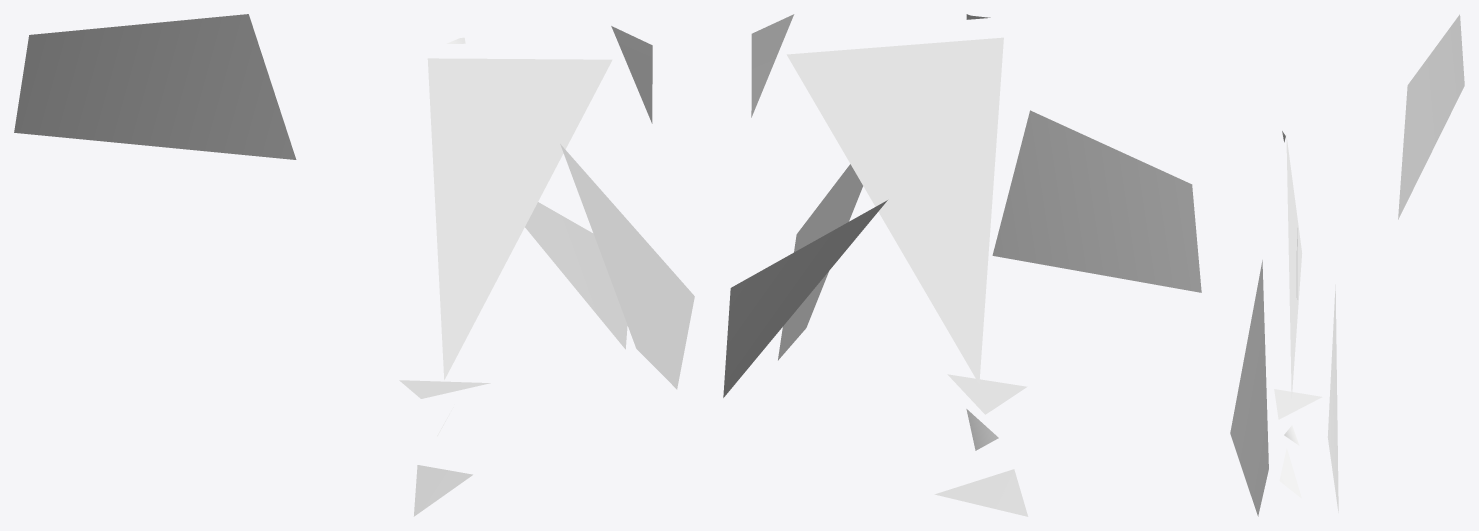
3 renders of one model, left to right at view 1: azimuth 30°, elevation 25°; view 2: azimuth 150°, elevation 25°; view 3: azimuth 270°, elevation 25°, orthographic. The views are drawn at different scales.
Size of the model in its own units: 0.2187 by 0.1823 by 0.1065.
Materials: 1 (1 with a texture image).
